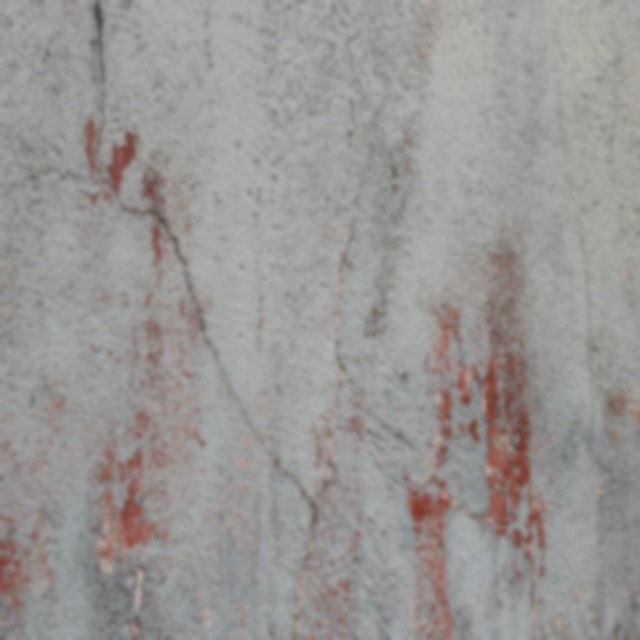SurfaceCrack: (24, 1, 332, 638)
